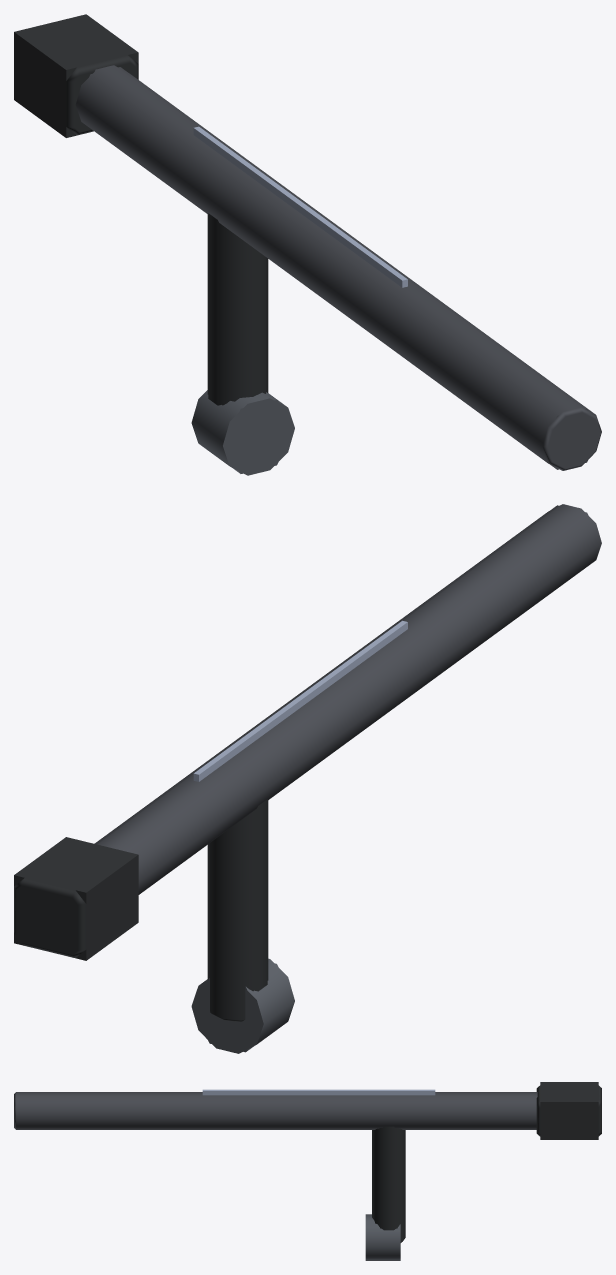
File: m_tonfa.glb
3 renders of one model, top to bottom at view 1: azimuth 30°, elevation 25°; view 2: azimuth 150°, elevation 25°; view 3: azimuth 270°, elevation 25°, orthographic. The views are drawn at different scales.
Parts seen in each view (by area): view 1: L0, L1; view 2: L0, L1; view 3: L0, L1.
Boxes of the visible parts, x1,y1,x2,y2 form: L0: (14, 17, 601, 475); L1: (14, 14, 588, 473); L0: (14, 504, 601, 1053); L1: (14, 505, 588, 1052); L0: (14, 1085, 601, 1259); L1: (16, 1082, 598, 1260).
Size of the model in its own units: 0.04 by 0.1585 by 0.505.
